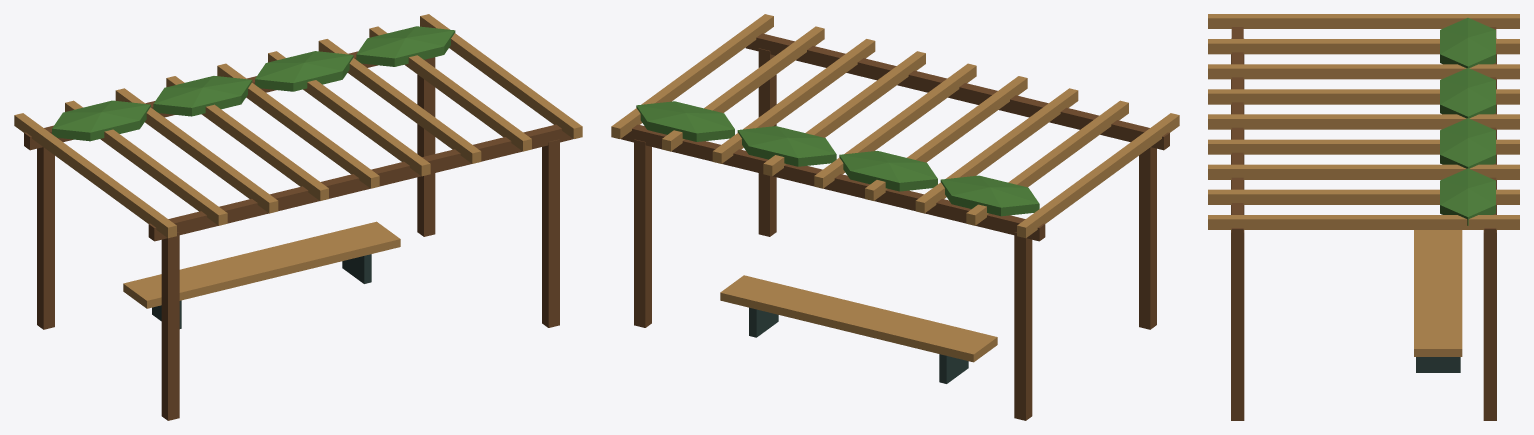
Rendered from Pergola.obj.
3 views of the same model, side by side, from view 1: azimuth 30°, elevation 25°; view 2: azimuth 150°, elevation 25°; view 3: azimuth 270°, elevation 25° (orthographic).
Visible parts, largest first — view 1: Pergola; view 2: Pergola; view 3: Pergola.
Boxes of the visible parts, x1,y1,x2,y2 form: Pergola: (14,14,582,420); Pergola: (611,14,1179,420); Pergola: (1208,14,1519,420).
Size of the model in its own units: 6.6 by 3.18 by 4.2.
1 material, 1 textured.
